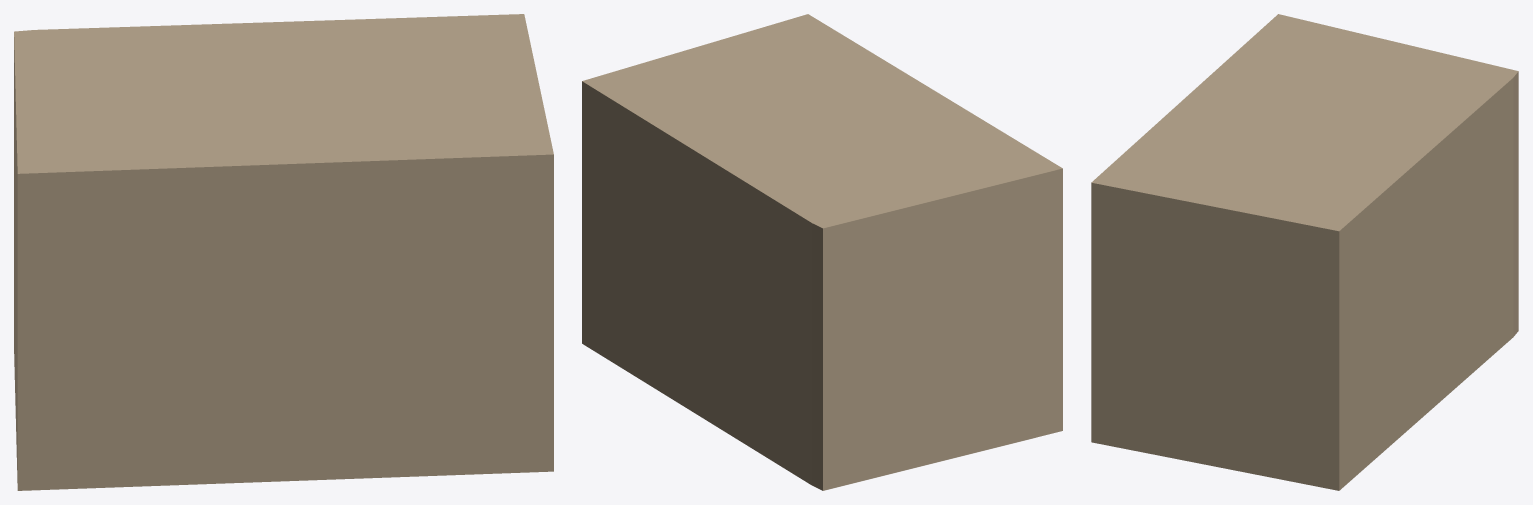
The model's file is bld_98868815.dae.
3 views of the same model, side by side, from view 1: azimuth 30°, elevation 25°; view 2: azimuth 150°, elevation 25°; view 3: azimuth 270°, elevation 25° (orthographic). The views are drawn at different scales.
Parts seen in each view (by area): view 1: bld_98868815; view 2: bld_98868815; view 3: bld_98868815.
Part boxes in pixels (bbox=[...]): bld_98868815: bbox=[14, 14, 553, 490]; bld_98868815: bbox=[582, 14, 1062, 490]; bld_98868815: bbox=[1091, 14, 1518, 490].
Size of the model in its own units: 14.36 by 11.94 by 8.
